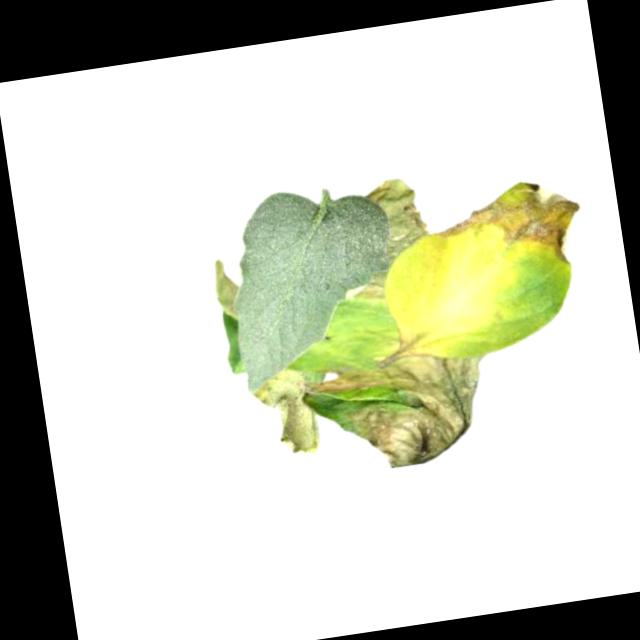Late_blight: (297, 341, 502, 482), (431, 174, 588, 284), (248, 366, 323, 467), (363, 174, 428, 248), (349, 242, 419, 307), (209, 257, 240, 323)
